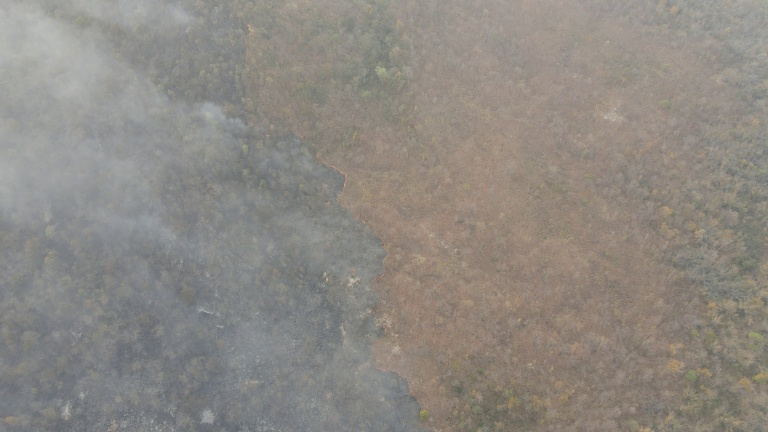fire: (353, 212, 389, 349), (315, 151, 350, 205)
smoke: (1, 1, 430, 428)
